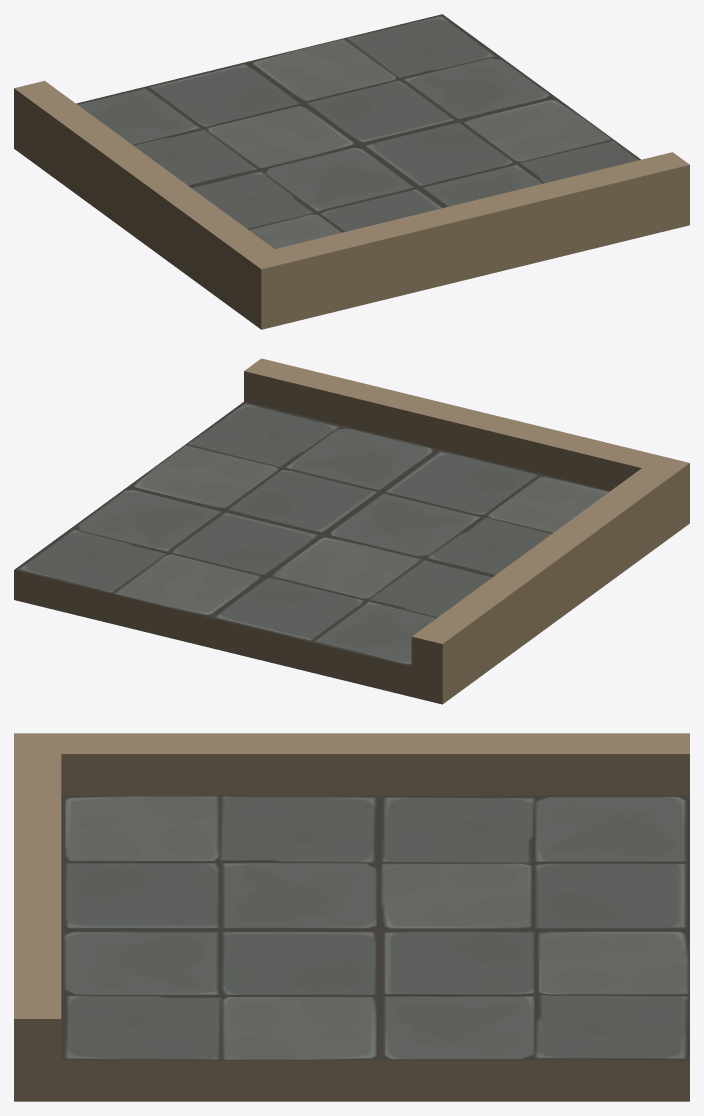
Rendered from RoofTop_B03.fbx.
The picture shows the model from 3 angles, top to bottom: view 1: azimuth 30°, elevation 25°; view 2: azimuth 150°, elevation 25°; view 3: azimuth 270°, elevation 25°; orthographic projection. The views are drawn at different scales.
Parts seen in each view (by area): view 1: RoofTop_B03; view 2: RoofTop_B03; view 3: RoofTop_B03.
Part boxes in pixels (x1,y1,x2,y2): RoofTop_B03: (14, 14, 689, 329); RoofTop_B03: (14, 358, 689, 704); RoofTop_B03: (14, 733, 689, 1101).
Bounding box in the file's own units: 608 × 81.97 × 608.
